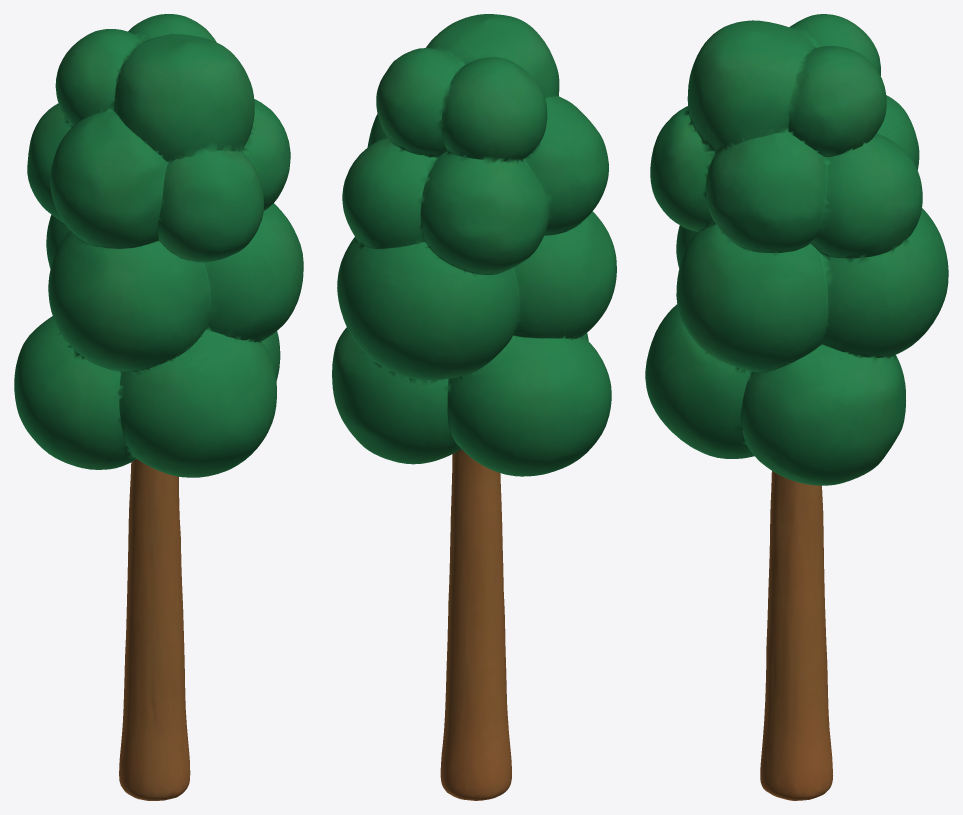
The model's file is 22-arvore-alta.glb.
3 renders of one model, left to right at view 1: azimuth 30°, elevation 25°; view 2: azimuth 150°, elevation 25°; view 3: azimuth 270°, elevation 25°, orthographic.
Visible parts, largest first — view 1: tripo_node_87e7099a-87d3-4799-bf9a-a33dc18270b1; view 2: tripo_node_87e7099a-87d3-4799-bf9a-a33dc18270b1; view 3: tripo_node_87e7099a-87d3-4799-bf9a-a33dc18270b1.
Part boxes in pixels (x1,y1,x2,y2): tripo_node_87e7099a-87d3-4799-bf9a-a33dc18270b1: (14,14,303,800); tripo_node_87e7099a-87d3-4799-bf9a-a33dc18270b1: (332,14,616,800); tripo_node_87e7099a-87d3-4799-bf9a-a33dc18270b1: (645,14,948,800).
Bounding box in the file's own units: 0.3472 × 1 × 0.3587.
Materials: 1 (1 with a texture image).
